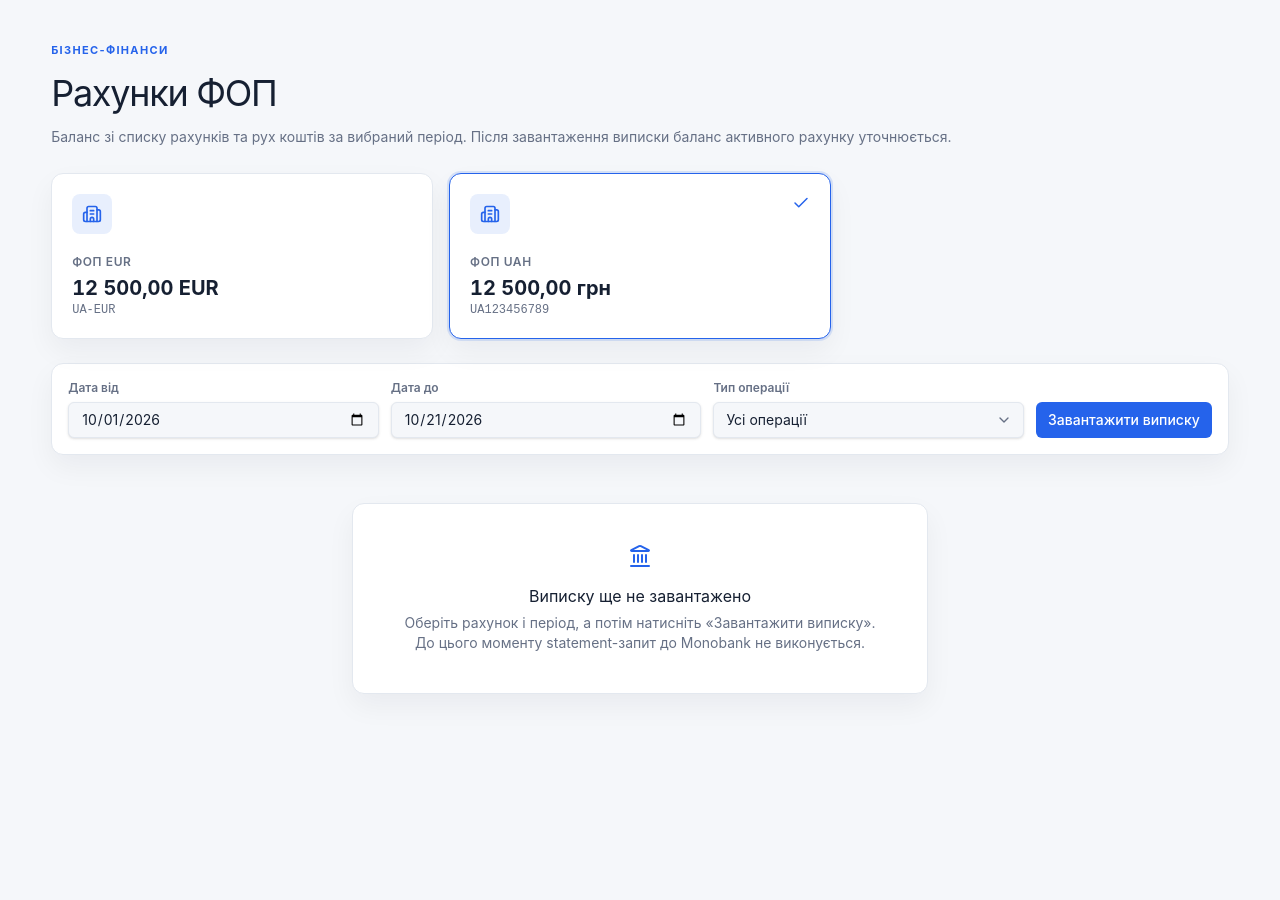
Test: AccountsPage › selects the UAH account by default even when it is not first
The image size is (1280, 900).
Check: the heading "Виписку ще не завантажено" is shown, box top-left (529, 586), bottom-right (751, 606)
What coordinates should you click on to do the following:
click the button "Завантажити виписку"
I would click on:
 (1124, 420)
Its box is top-left (1036, 402), bottom-right (1212, 438).
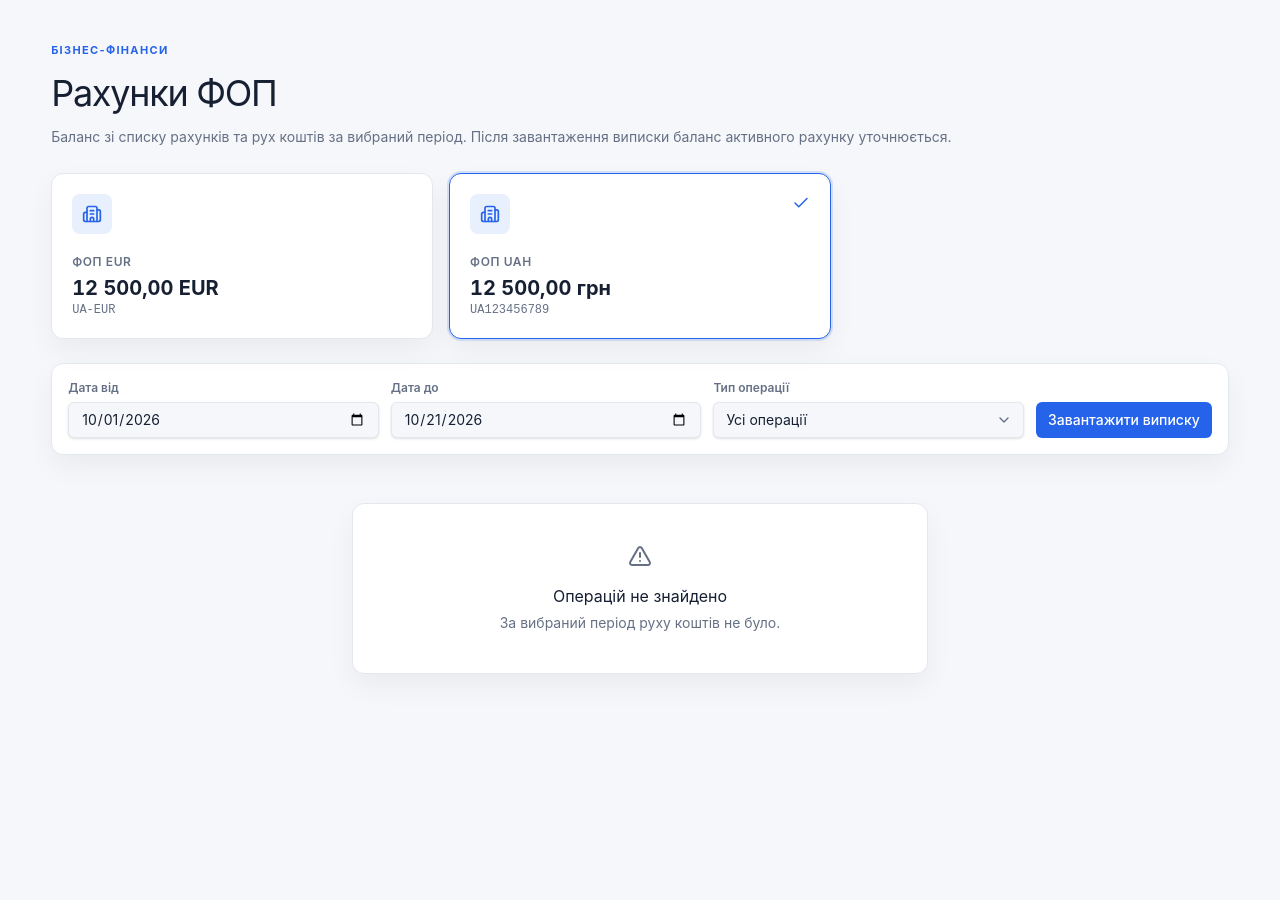
Check: the heading "Операцій не знайдено" is shown, box top-left (553, 586), bottom-right (727, 606)
